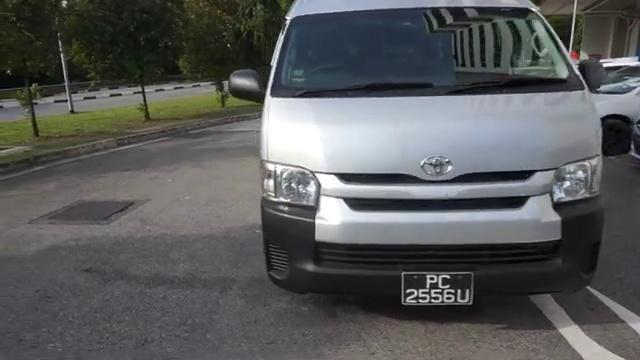Van: (254, 1, 611, 309)
